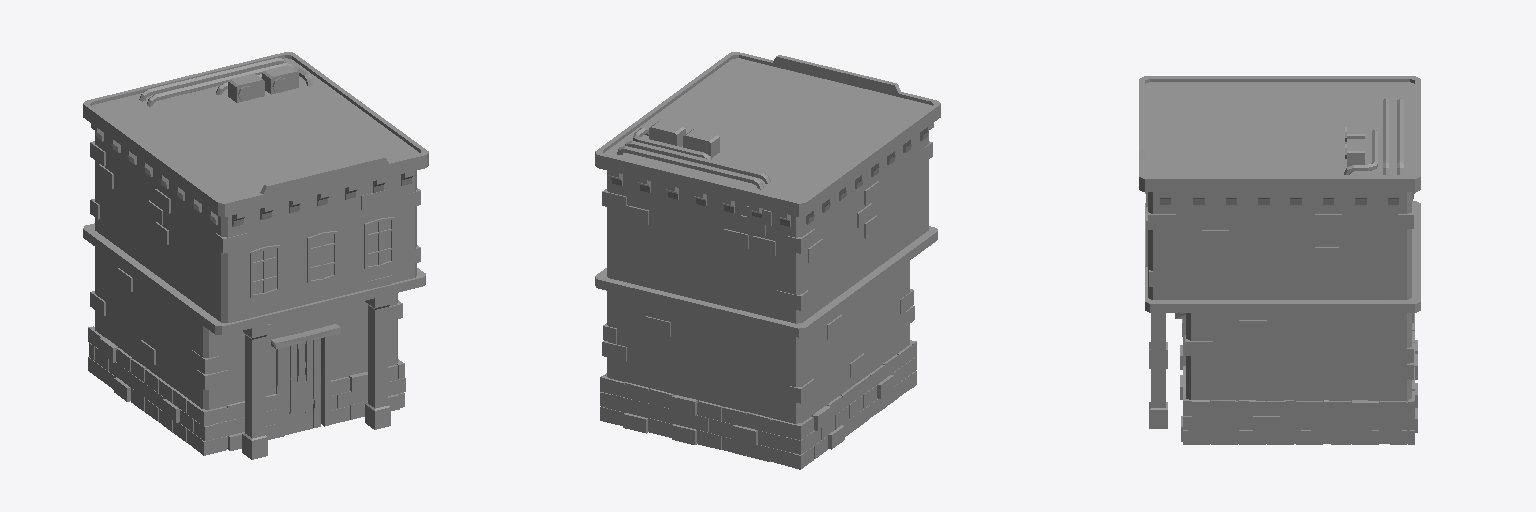
File: 2Story_Columns.obj
3 renders of one model, left to right at view 1: azimuth 30°, elevation 25°; view 2: azimuth 150°, elevation 25°; view 3: azimuth 270°, elevation 25°, orthographic.
Parts seen in each view (by area): view 1: 2Story_Columns_Cube.119; view 2: 2Story_Columns_Cube.119; view 3: 2Story_Columns_Cube.119.
Part boxes in pixels (left/top/right/bottom): 2Story_Columns_Cube.119: left=83, top=52, right=428, bottom=459; 2Story_Columns_Cube.119: left=595, top=52, right=940, bottom=469; 2Story_Columns_Cube.119: left=1139, top=76, right=1420, bottom=444.
Bounding box in the file's own units: 2.16 × 2.77 × 2.49.